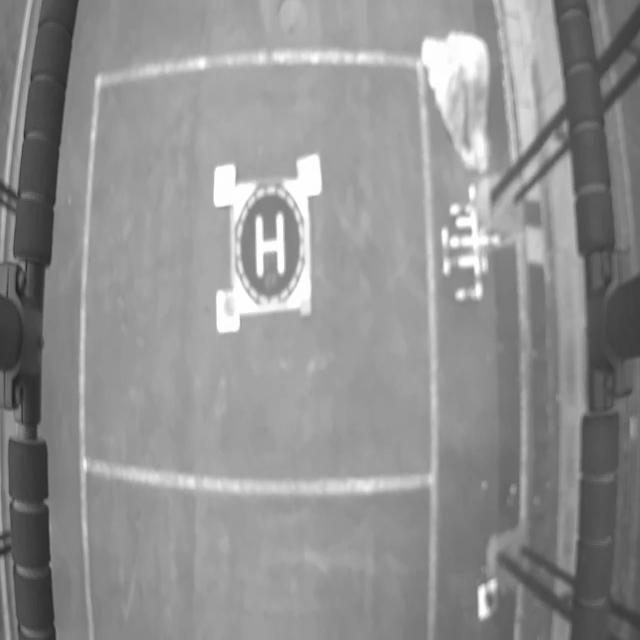Helipad: (255, 212, 285, 280)
